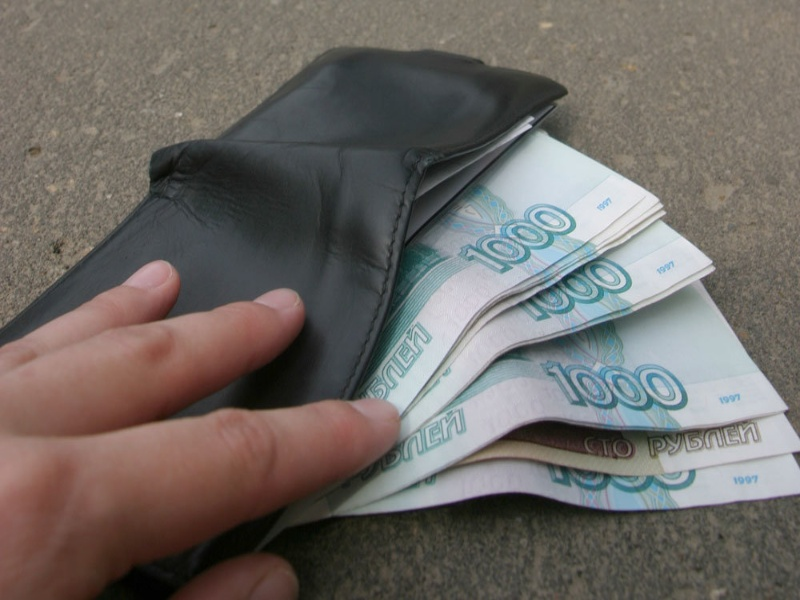cash: (276, 132, 800, 512)
